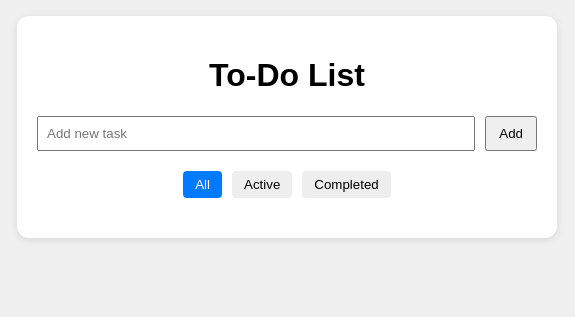
it: App integration › deletes a task
Type "Delete Me" into the field with placeholder "Add new task" at [256, 133], box [37,116,475,151]
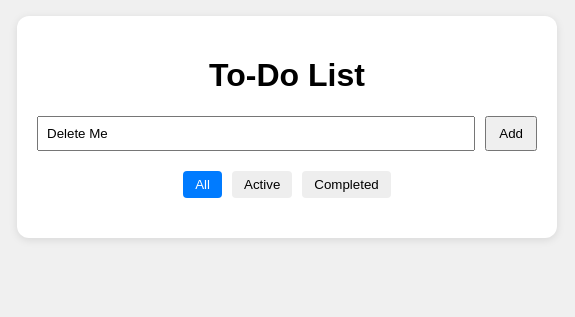
Click the button "Add" at [511, 133], box [485,116,537,151]
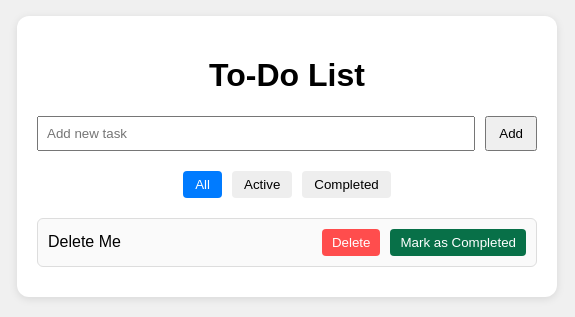
Click the button "Delete" at [351, 242], box [322,229,380,256]
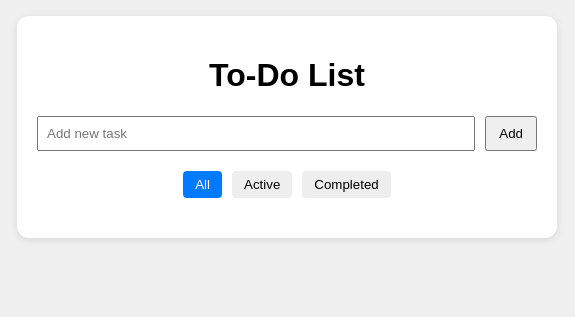
Expected: the text "Delete Me" is gone
